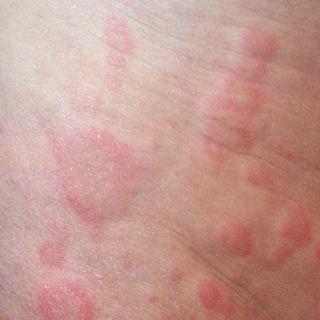urticaria: (201, 18, 312, 320), (38, 99, 162, 216), (93, 13, 142, 86), (33, 283, 96, 320), (38, 234, 87, 269)
